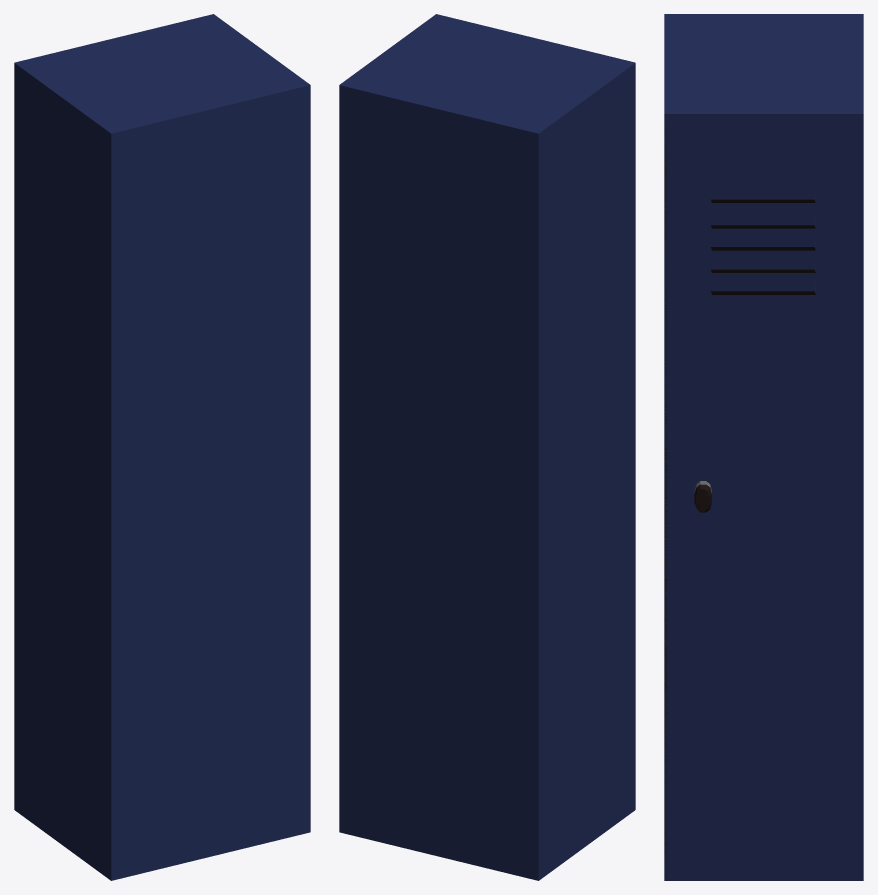
The model's file is locker.fbx.
The picture shows the model from 3 angles, left to right: view 1: azimuth 30°, elevation 25°; view 2: azimuth 150°, elevation 25°; view 3: azimuth 270°, elevation 25°; orthographic projection. The views are drawn at different scales.
Visible parts, largest first — view 1: Cube; view 2: Cube; view 3: Cube.
Boxes of the visible parts, bbox=[...] form: Cube: bbox=[14, 14, 310, 880]; Cube: bbox=[339, 14, 635, 880]; Cube: bbox=[664, 14, 863, 880].
Bounding box in the file's own units: 140 × 478 × 113.
